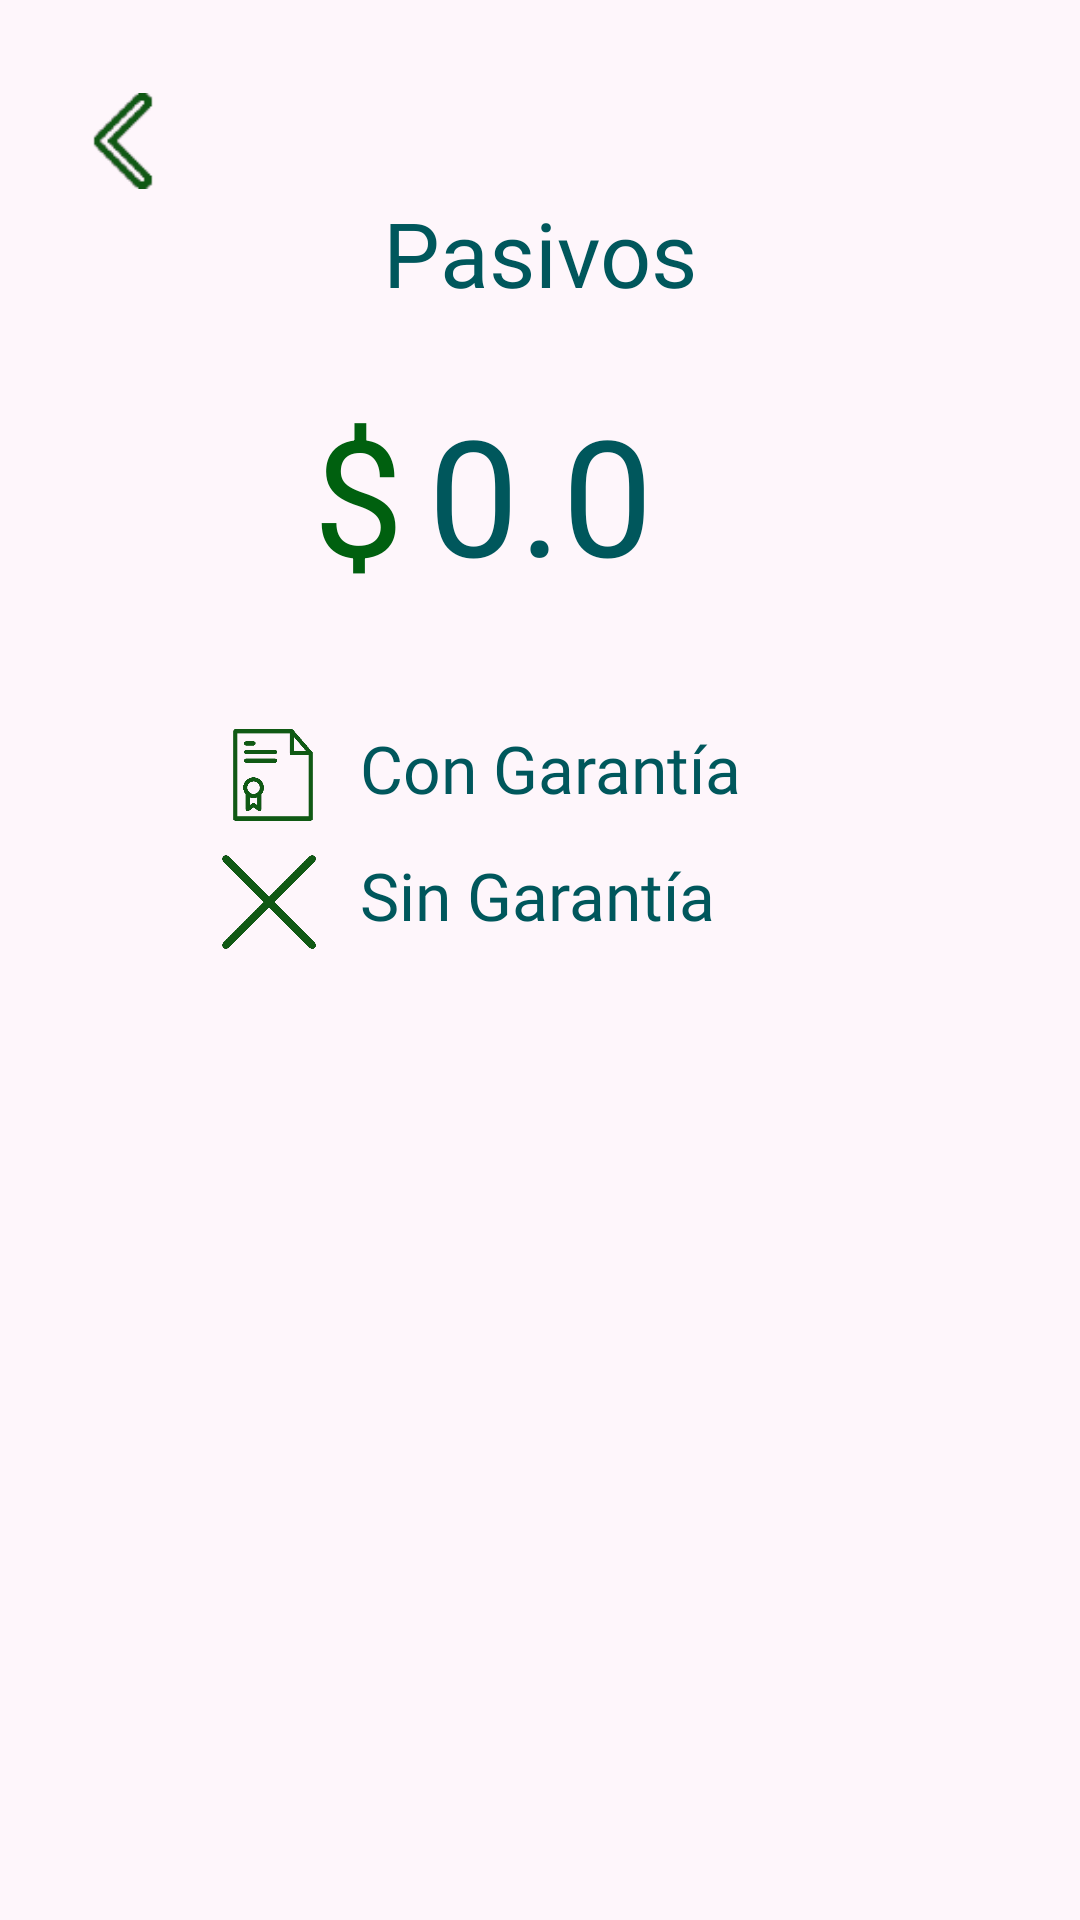

Locate icon controls on the screen. Image size 1080*1920, boxes as BBox(x1, y1, x2, y2).
congarantia: BBox(233, 729, 313, 821)
flecha: BBox(93, 93, 153, 189)
nogarantia: BBox(222, 855, 316, 949)
